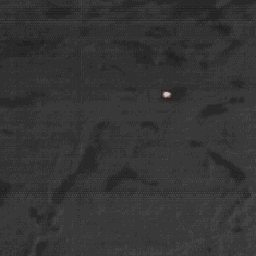Target: (161, 91, 171, 99)
